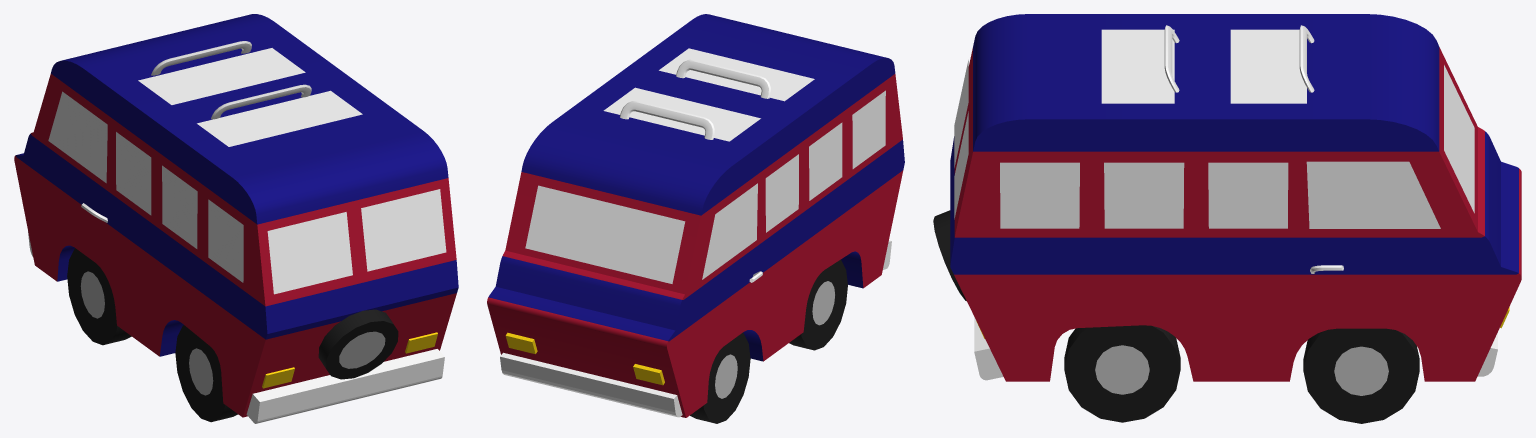
The model's file is таиланд_дляигры.fbx.
The picture shows the model from 3 angles, left to right: view 1: azimuth 30°, elevation 25°; view 2: azimuth 150°, elevation 25°; view 3: azimuth 270°, elevation 25°; orthographic projection. The views are drawn at different scales.
Visible parts, largest first — view 1: Cube, Plane.007, Cube.002, Plane.004, Plane.003, Plane, Plane.001, Cylinder.006, Cylinder.001, Cylinder, Plane.002, Cylinder.005 (+3 smaller); view 2: Cube, Plane.005, Plane.007, Cube.001, Plane, Cylinder.001, Cylinder, Plane.001, Plane.002, Cylinder.004, Cylinder.005, Cube.003 (+1 smaller); view 3: Cube, Plane.007, Cylinder, Cylinder.001, Plane.002, Plane, Plane.001, Plane.005, Cube.002, Cylinder.006, Plane.004, Plane.003 (+2 smaller).
Part boxes in pixels (box(x1,y1,x2,y2)): Cube: box(14, 14, 458, 417); Plane.007: box(116, 132, 243, 282); Cube.002: box(246, 349, 444, 423); Plane.004: box(361, 189, 446, 271); Plane.003: box(267, 212, 352, 294); Plane: box(138, 48, 305, 104); Plane.001: box(197, 90, 362, 146); Cylinder.006: box(318, 309, 398, 379); Cylinder.001: box(67, 248, 131, 345); Cylinder: box(175, 325, 237, 422); Plane.002: box(48, 91, 107, 183); Cylinder.005: box(211, 84, 311, 119); Cube: box(487, 14, 904, 417); Plane.005: box(525, 185, 685, 283); Plane.007: box(765, 90, 885, 232); Cube.001: box(500, 352, 682, 417); Plane: box(603, 87, 760, 141); Cylinder.001: box(690, 332, 750, 423); Cylinder: box(789, 259, 847, 350); Plane.001: box(659, 48, 814, 101); Plane.002: box(702, 183, 757, 279); Cylinder.004: box(620, 101, 714, 139); Cylinder.005: box(676, 59, 770, 98); Cube.003: box(505, 332, 537, 354); Cube: box(950, 14, 1521, 381); Plane.007: box(1000, 162, 1288, 228); Cylinder: box(1064, 325, 1180, 422); Cylinder.001: box(1303, 328, 1419, 423); Plane.002: box(1306, 161, 1440, 228); Plane: box(1230, 29, 1306, 103); Plane.001: box(1101, 29, 1174, 103); Plane.005: box(1444, 65, 1474, 213); Cube.002: box(974, 317, 1003, 380); Cylinder.006: box(933, 210, 966, 300); Plane.004: box(954, 111, 968, 219); Plane.003: box(954, 60, 968, 167).
Bounding box in the file's own units: 134 × 172 × 279.
